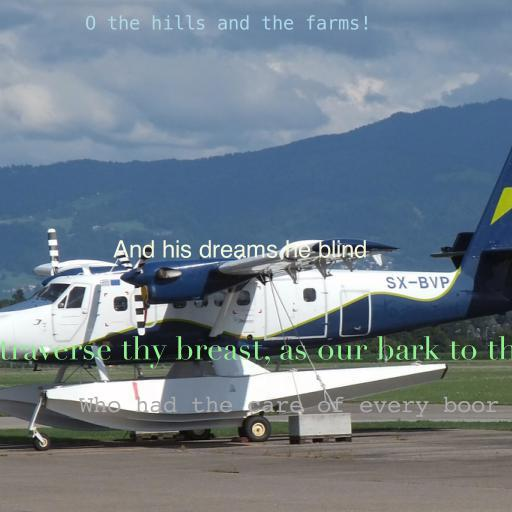Courier: (79, 396, 499, 417)
Didot: (0, 335, 512, 369)
Menlo: (85, 15, 371, 30)
SignPainter: (113, 240, 367, 258)
